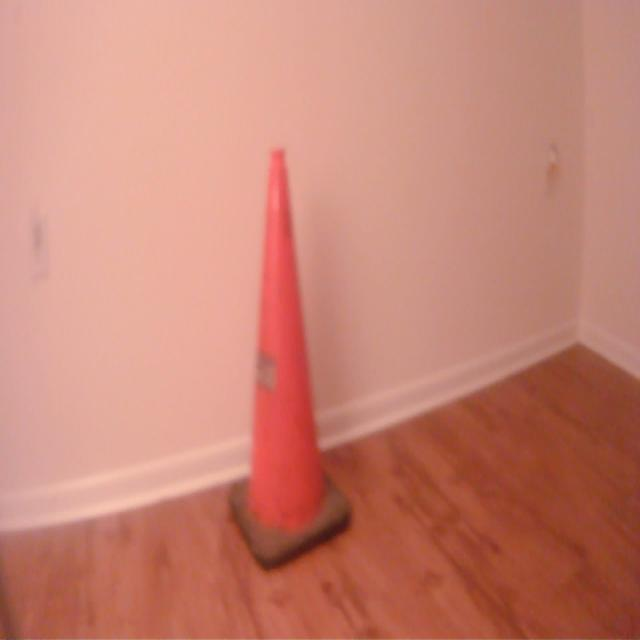traffic cone: (226, 136, 356, 577)
